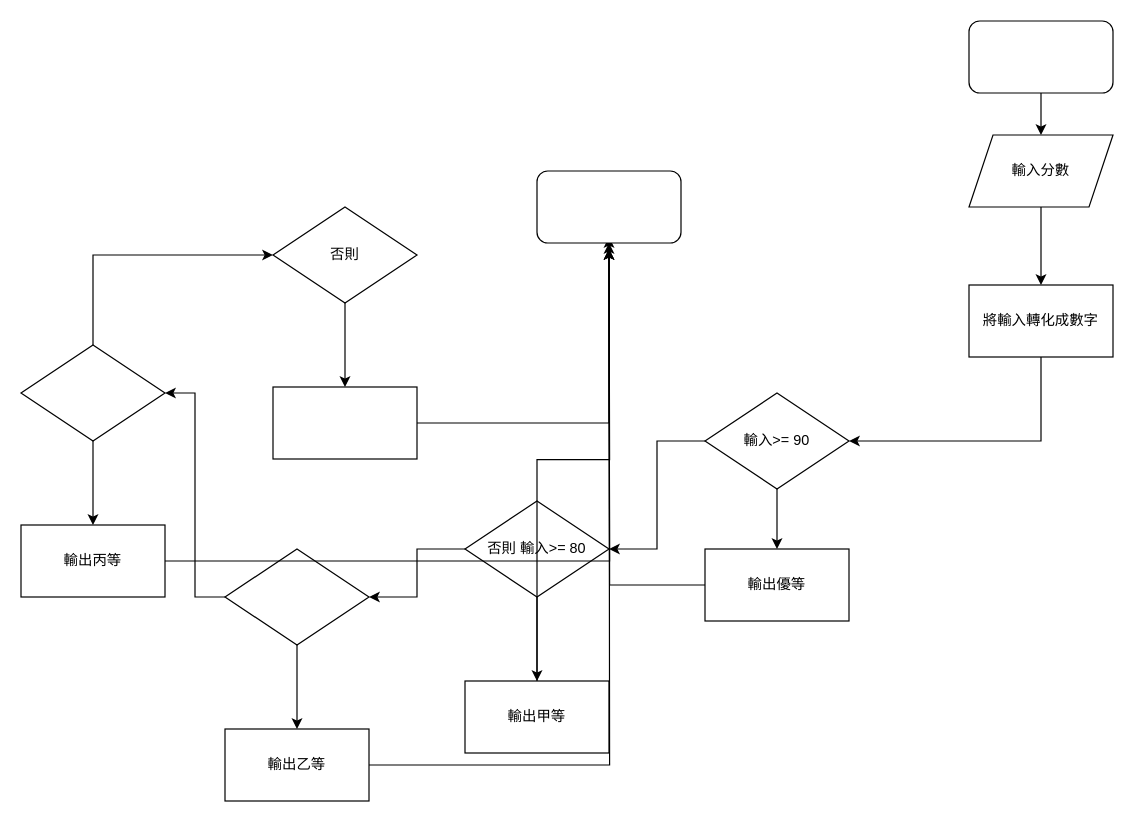
This 1134x822 diagram has some shape labels left out. The shapes that lost their labels are listed below. From the top down, each one's centre as x and y in pixels, then its label:
At point (1040, 56): "開始".
At point (92, 392): "否則 輸入>= 60".
At point (344, 422): "輸出丁等".
At point (296, 596): "否則 輸入>= 70".
